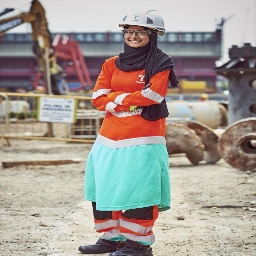helmet: (111, 5, 170, 34)
no-vest: (95, 50, 174, 135)
person: (78, 5, 178, 256)
